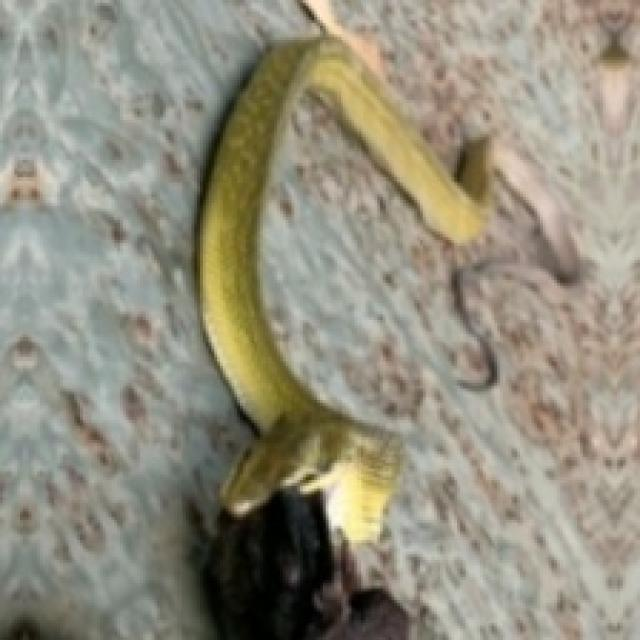red-tailed green ratsnake: (197, 37, 491, 540), (452, 144, 581, 389)
